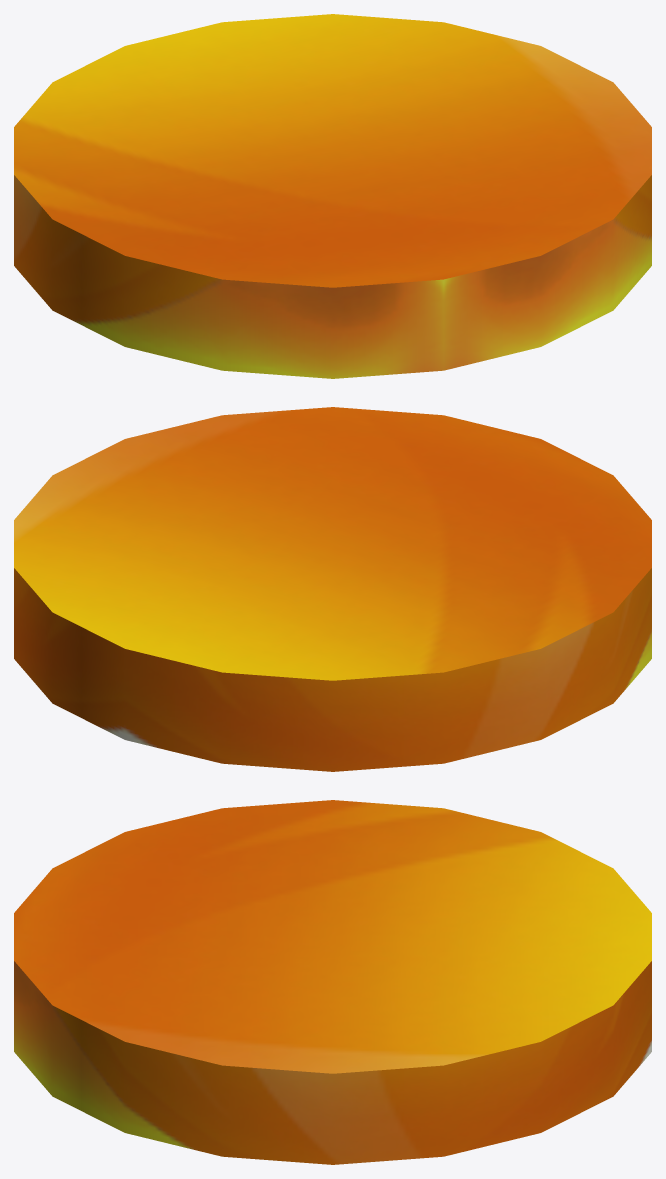
File: 001_yuanbao_002.FBX
3 views of the same model, one above another, from view 1: azimuth 30°, elevation 25°; view 2: azimuth 150°, elevation 25°; view 3: azimuth 270°, elevation 25° (orthographic).
Parts seen in each view (by area): view 1: yuanbao_002; view 2: yuanbao_002; view 3: yuanbao_002.
Part boxes in pixels (x1,y1,x2,y2): yuanbao_002: [14, 14, 651, 378]; yuanbao_002: [14, 407, 651, 771]; yuanbao_002: [14, 800, 651, 1164].
Bounding box in the file's own units: 16.21 × 2.52 × 15.96.
